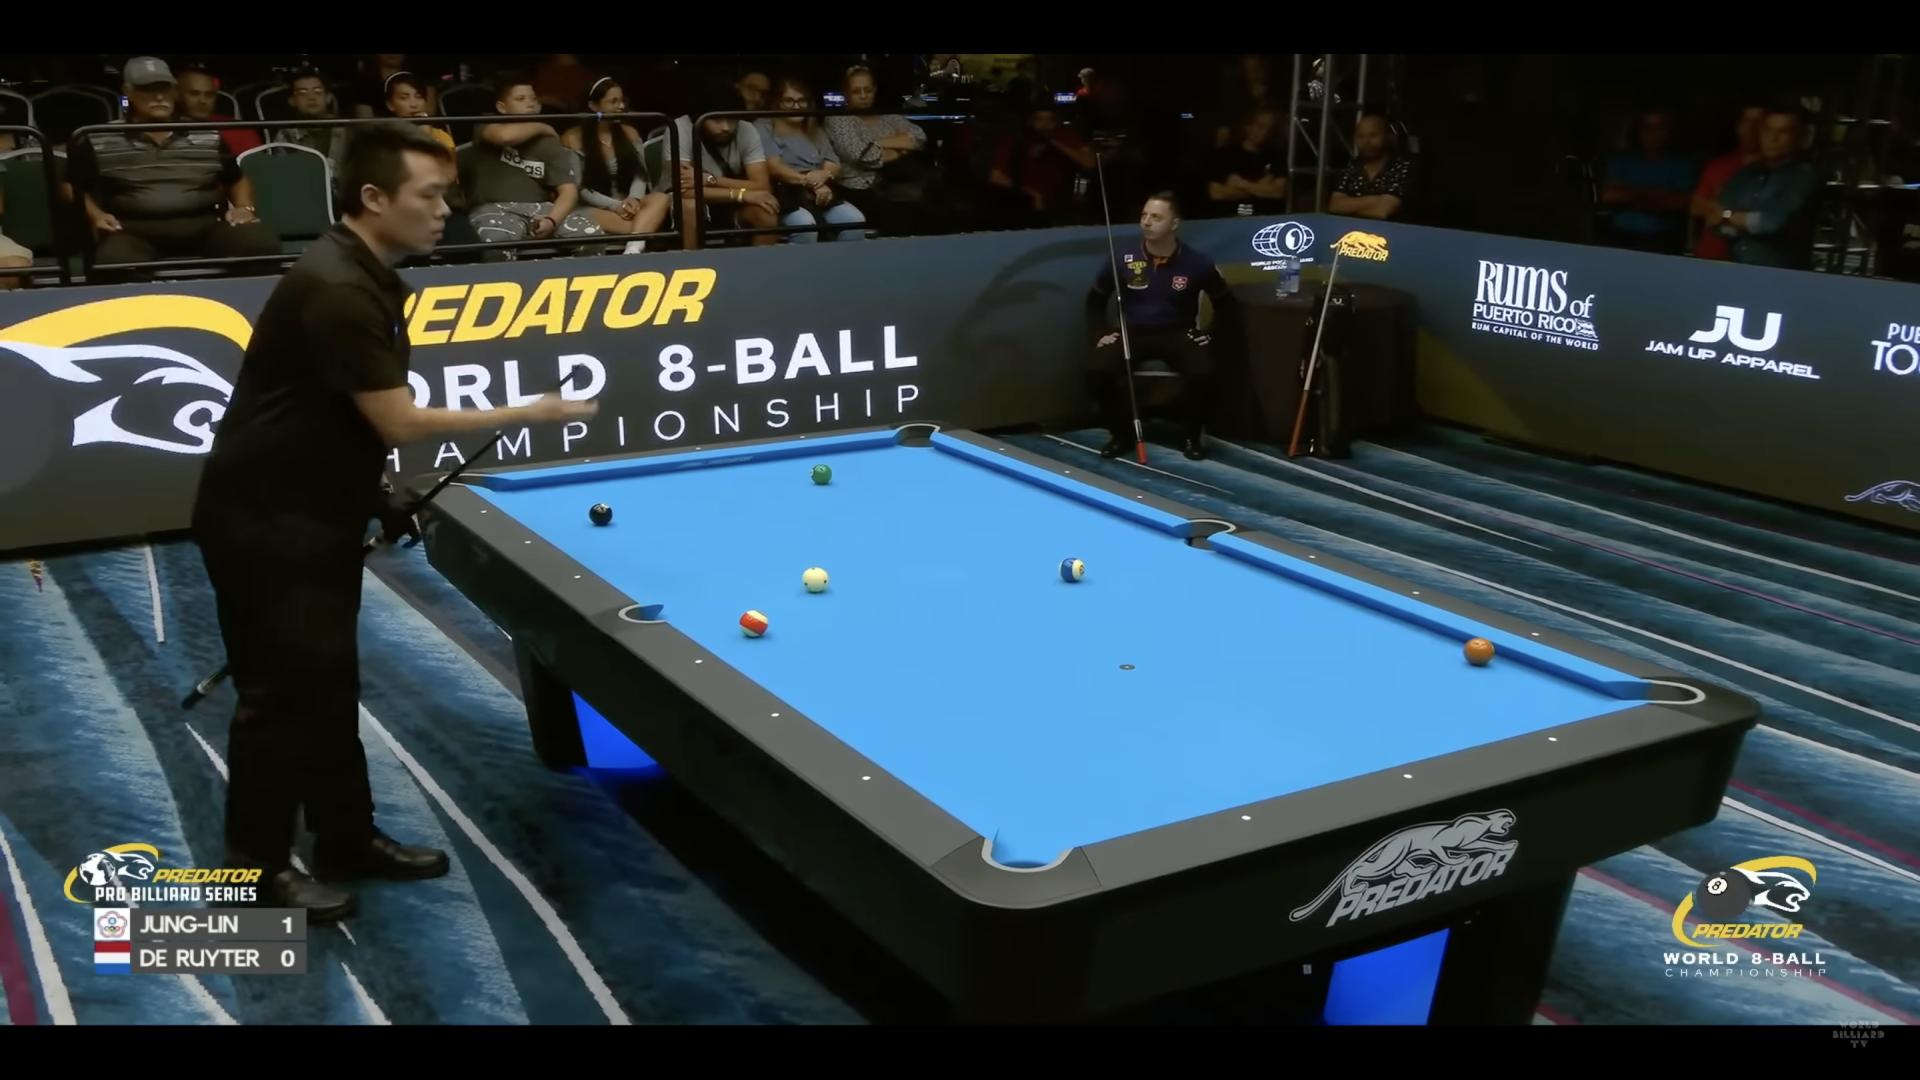Black: (588, 502, 612, 525)
Cue: (802, 567, 828, 592)
Dot: (1238, 812, 1254, 825), (1400, 770, 1416, 783), (858, 773, 874, 786), (1545, 733, 1560, 746), (767, 709, 782, 723), (691, 655, 705, 669), (570, 571, 584, 583), (1305, 553, 1317, 563), (1530, 629, 1542, 638), (1411, 588, 1422, 597), (479, 508, 489, 517), (582, 456, 592, 465), (798, 433, 808, 442), (524, 538, 533, 547), (694, 444, 703, 454), (1135, 493, 1145, 501), (1063, 468, 1072, 476), (997, 446, 1006, 454)
Solid: (1462, 637, 1495, 665), (810, 464, 832, 484)
Striped: (738, 609, 769, 637), (1059, 556, 1085, 582)
